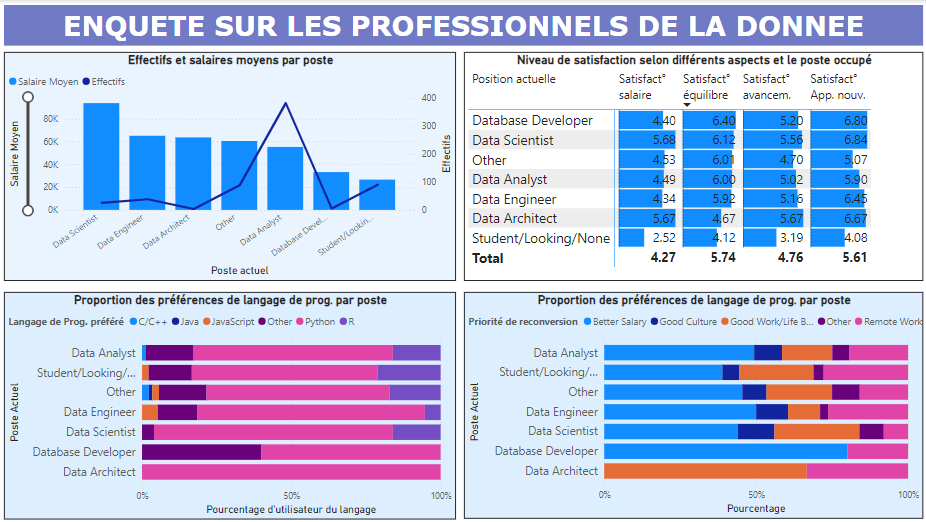

The dashboard page shown, as its layout file describes it:
{"tool":"powerbi","page":{"name":"Principaux résultats","canvas":[1280,720],"ordinal":1},"visuals":[{"type":"hundredPercentStackedBarChart","title":"Proportion des préférences de langage de prog. par poste","fields":{"Category":["Data Professional Survey.Q1 - Position Actuel"],"Y":["CountNonNull(Data Professional Survey.Q5 - Langage de Programmation préféré)"],"Series":["Data Professional Survey.Q5 - Langage de Programmation préféré"]},"box":[7.3,402.4,622,313.2],"z":0},{"type":"pivotTable","title":"Niveau de satisfaction selon différents aspects et le poste occupé","fields":{"Rows":["Data Professional Survey.Q1 - Position Actuel"],"Values":["Avg(Data Professional Survey.Q6A - A quel point Etes vous satisfait de votre salaire?)","Avg(Data Professional Survey.Q6B - A quel point Etes vous satisfait de votre équilibre viepriéé/vie professionnel?)","Avg(Data Professional Survey.Q6E - A quel point Etes vous satisfait de votre avancement?)","Avg(Data Professional Survey.Q6F - A quel point Etes vous satisfait du fait d'apprendre de nouvelles choses?)"]},"box":[639.5,71.7,632.2,314.6],"z":1000},{"type":"hundredPercentStackedBarChart","title":"Proportion des préférences de langage de prog. par poste","fields":{"Category":["Data Professional Survey.Q1 - Position Actuel"],"Y":["CountNonNull(Data Professional Survey.Q8 - Si vous recherchiez un nouvel position, quel serait votre priorité?)"],"Series":["Data Professional Survey.Q8 - Si vous recherchiez un nouvel position, quel serait votre priorité?"]},"box":[639.5,402.4,632.2,311.7],"z":2000},{"type":"lineClusteredColumnComboChart","title":"Effectifs et salaires moyens par poste","fields":{"Category":["Data Professional Survey.Q1 - Position Actuel"],"Y2":["CountNonNull(Data Professional Survey.Salaire Moyen)"],"Y":["Avg(Data Professional Survey.Salaire Moyen)"]},"box":[7.3,71.7,622,314.6],"z":3000},{"type":"textbox","box":[6.9,6.9,1264.9,56.4],"z":4000}]}

Visuals, with their boxes in screenshot pixels (x1, y1, x2, y2), scaled from the page's 1280x720 canvas onto the 926x522 screenshot:
"Proportion des préférences de langage de prog. par poste" hundredPercentStackedBarChart: box(5, 292, 455, 519)
"Niveau de satisfaction selon différents aspects et le poste occupé" pivotTable: box(463, 52, 920, 280)
"Proportion des préférences de langage de prog. par poste" hundredPercentStackedBarChart: box(463, 292, 920, 518)
"Effectifs et salaires moyens par poste" lineClusteredColumnComboChart: box(5, 52, 455, 280)
textbox: box(5, 5, 920, 46)
